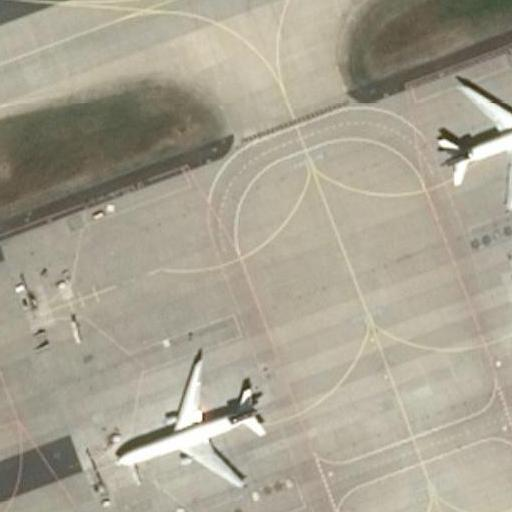Aircraft: (104, 353, 278, 500), (423, 73, 512, 214)
